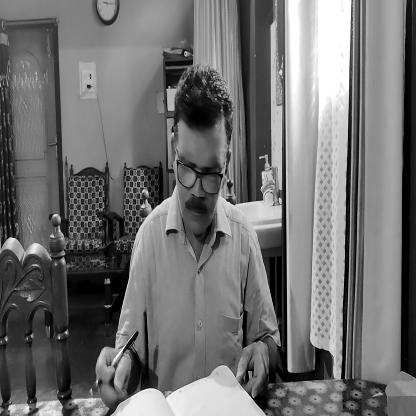Normal: (166, 63, 230, 235)
